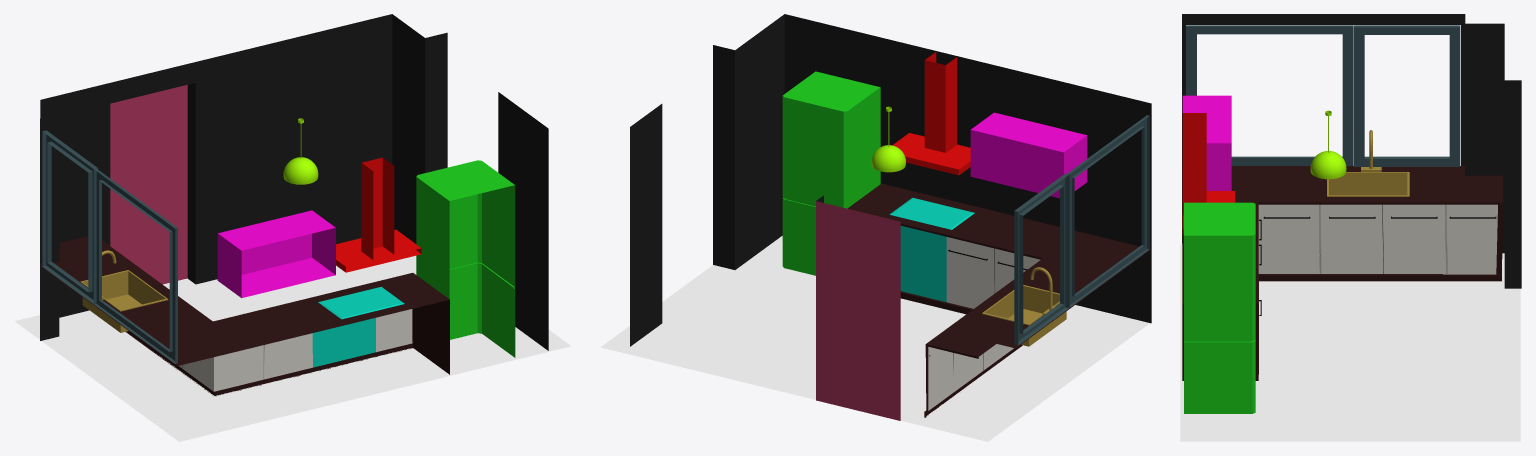
The model's file is Cocina.FBX.
3 renders of one model, left to right at view 1: azimuth 30°, elevation 25°; view 2: azimuth 150°, elevation 25°; view 3: azimuth 270°, elevation 25°, orthographic. The views are drawn at different scales.
Parts seen in each view (by area): view 1: walls, floor, table, freezer, DOOR, shelf, window, down_shelfs, extractor, oven, sink, ceiling lamp; view 2: walls, floor, DOOR, freezer, table, shelf, window, down_shelfs, extractor, oven, sink, ceiling lamp; view 3: floor, down_shelfs, freezer, walls, table, window, shelf, extractor, sink, ceiling lamp.
Boxes of the visible parts, <box> form: walls: <box>40,14,548,350</box>; floor: <box>14,255,570,441</box>; table: <box>40,236,449,396</box>; freezer: <box>416,160,515,357</box>; DOOR: <box>110,85,187,284</box>; shelf: <box>217,210,335,298</box>; window: <box>42,130,177,363</box>; down_shelfs: <box>179,309,412,391</box>; extractor: <box>336,157,421,272</box>; oven: <box>312,286,404,367</box>; sink: <box>80,250,168,332</box>; ceiling lamp: <box>283,118,318,184</box>; walls: <box>630,14,1151,346</box>; floor: <box>600,236,1149,441</box>; DOOR: <box>816,201,900,420</box>; freezer: <box>782,71,880,275</box>; table: <box>847,183,1150,417</box>; shelf: <box>970,112,1087,198</box>; window: <box>1014,115,1149,345</box>; down_shelfs: <box>928,237,1040,410</box>; extractor: <box>892,52,970,175</box>; oven: <box>889,197,974,302</box>; sink: <box>982,267,1066,346</box>; ceiling lamp: <box>871,106,905,172</box>; floor: <box>1180,244,1520,441</box>; down_shelfs: <box>1258,204,1497,315</box>; freezer: <box>1184,202,1255,413</box>; walls: <box>1182,14,1521,288</box>; table: <box>1182,166,1503,380</box>; window: <box>1186,25,1460,166</box>; shelf: <box>1182,95,1231,190</box>; extractor: <box>1182,113,1235,235</box>; sink: <box>1327,130,1409,196</box>; ceiling lamp: <box>1310,110,1346,179</box>.
Bounding box in the file's own units: 116 × 62.58 × 84.32.
